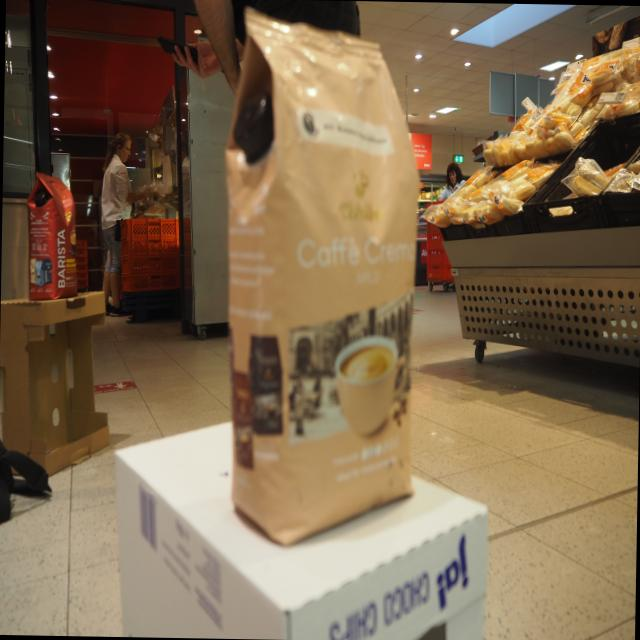CC Mild: (213, 4, 429, 558)
